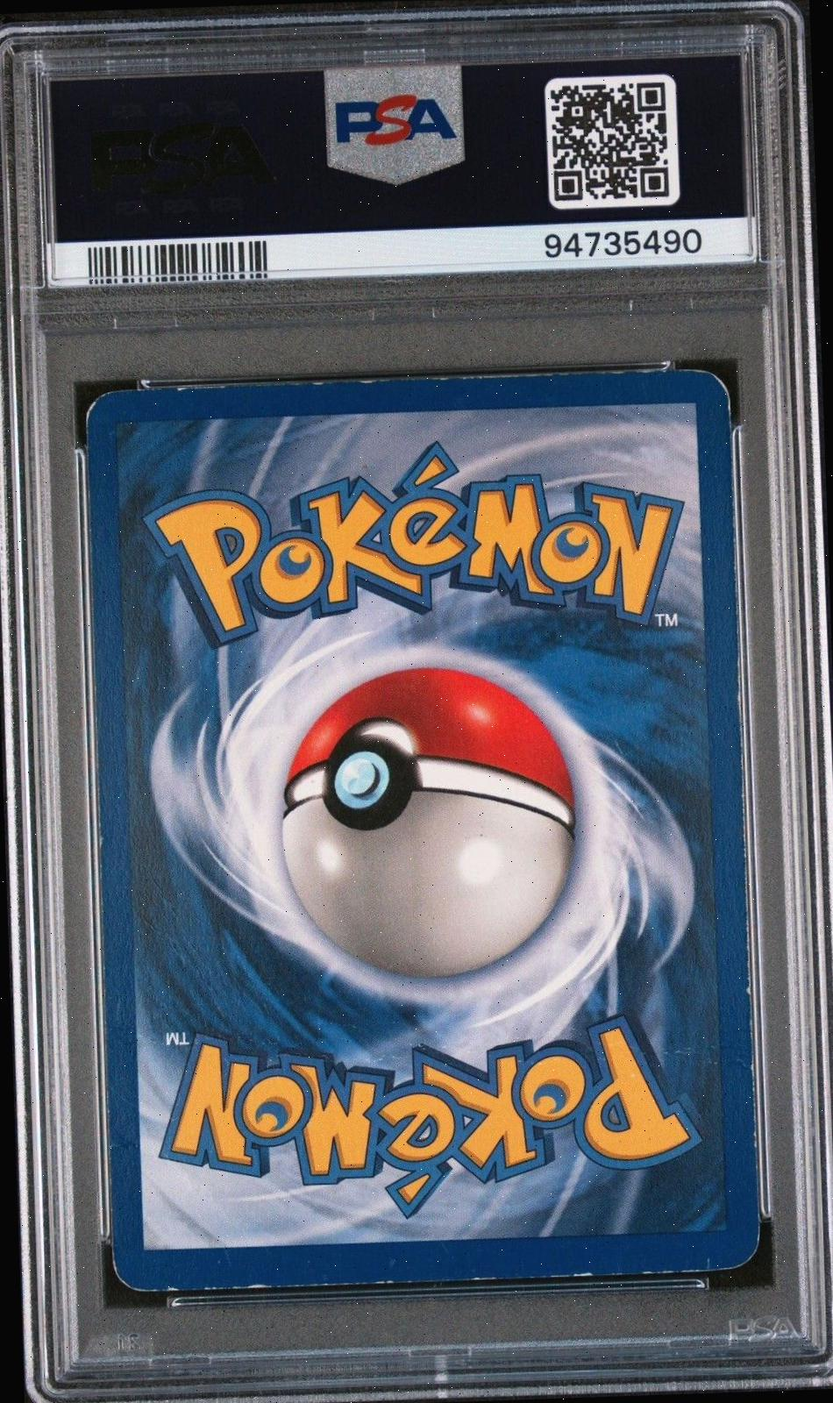card-2UtV: (85, 368, 761, 1293)
